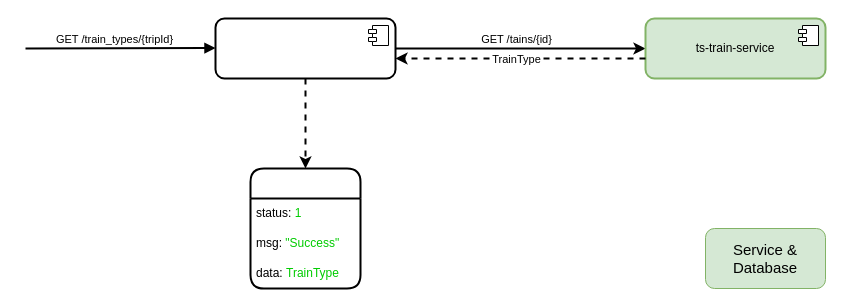
This 843x306 diagram has some shape labels left out. The box of each missing label's shape, as (x1, y1, x2, y2) in pixels:
Response: (249, 167, 361, 289)
ts-travel-service: (214, 17, 396, 79)
